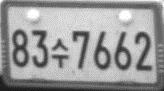2: (134, 30, 153, 71)
3: (31, 29, 49, 67)
6: (113, 29, 132, 70), (93, 30, 111, 69)
7: (71, 29, 89, 69)
8: (11, 28, 29, 67)
수: (50, 37, 69, 68)
